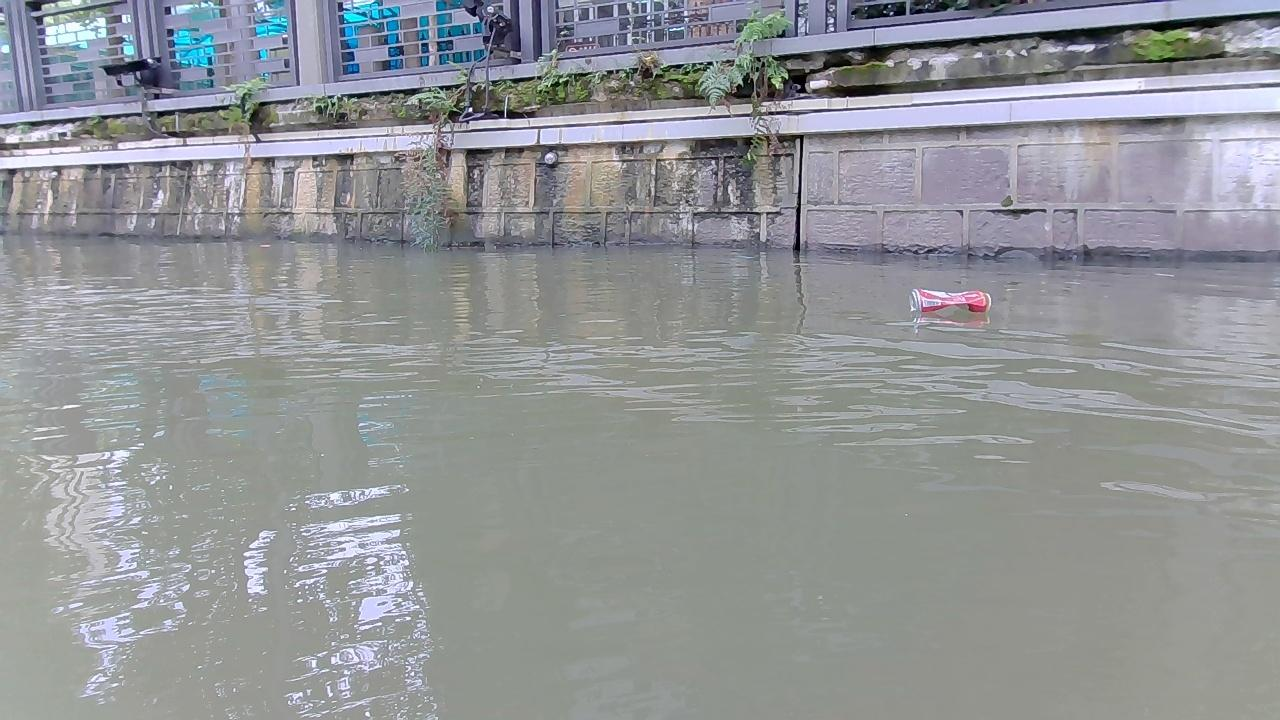bottle: (908, 287, 991, 312)
